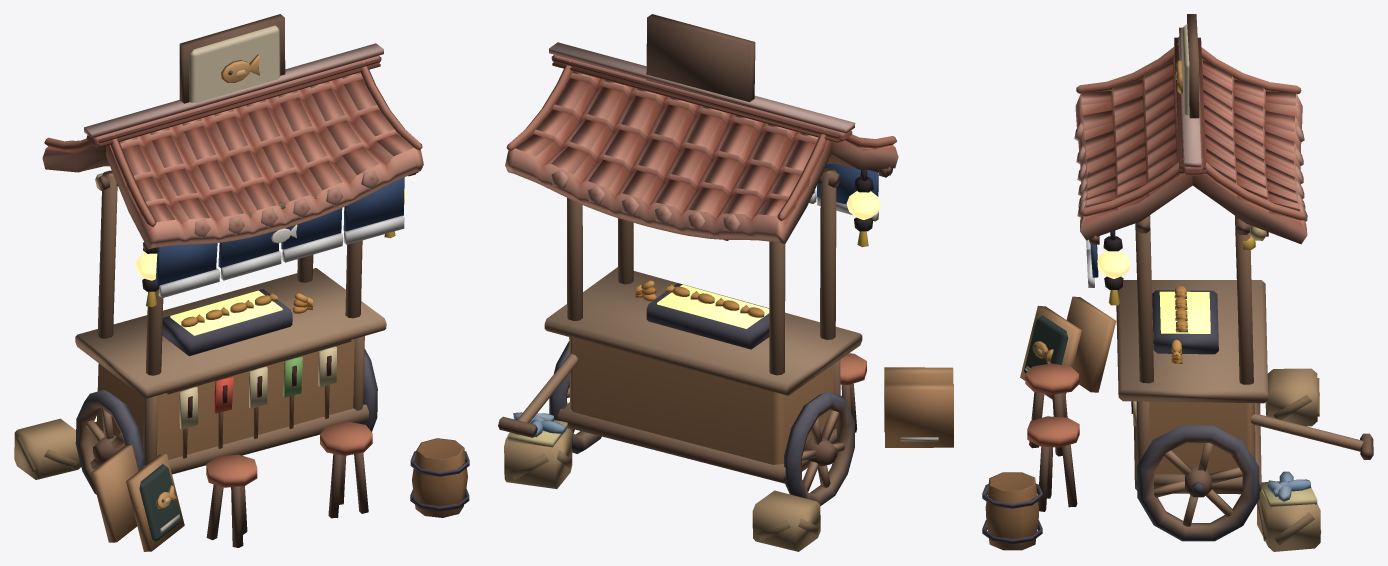
Rendered from shop-1-v2.glb.
The picture shows the model from 3 angles, left to right: view 1: azimuth 30°, elevation 25°; view 2: azimuth 150°, elevation 25°; view 3: azimuth 270°, elevation 25°; orthographic projection.
Visible parts, largest first — view 1: shop-1-v2, window_glow; view 2: shop-1-v2, window_glow; view 3: shop-1-v2, window_glow.
Boxes of the visible parts, left/top/right/bottom form: shop-1-v2: left=14, top=14, right=469, bottom=551; window_glow: left=135, top=188, right=406, bottom=335; shop-1-v2: left=498, top=14, right=953, bottom=551; window_glow: left=657, top=191, right=880, bottom=328; shop-1-v2: left=982, top=14, right=1373, bottom=551; window_glow: left=1097, top=250, right=1210, bottom=333.
Bounding box in the file's own units: 2.1 × 2.59 × 2.04.
